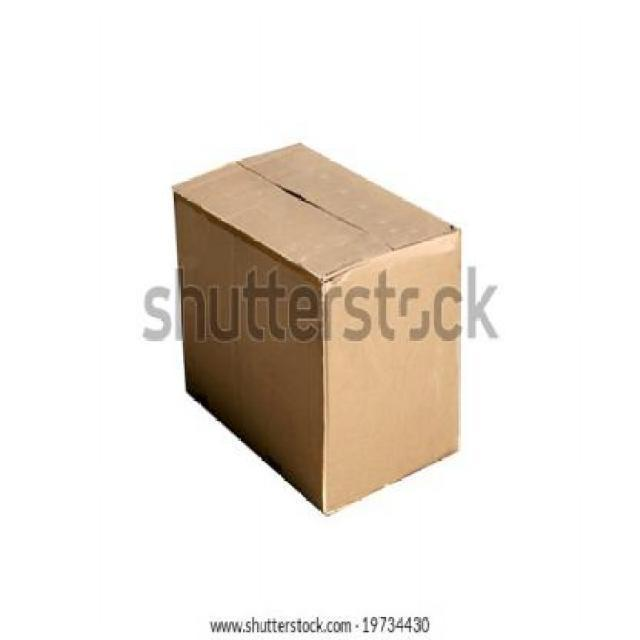box: (164, 135, 463, 525)
